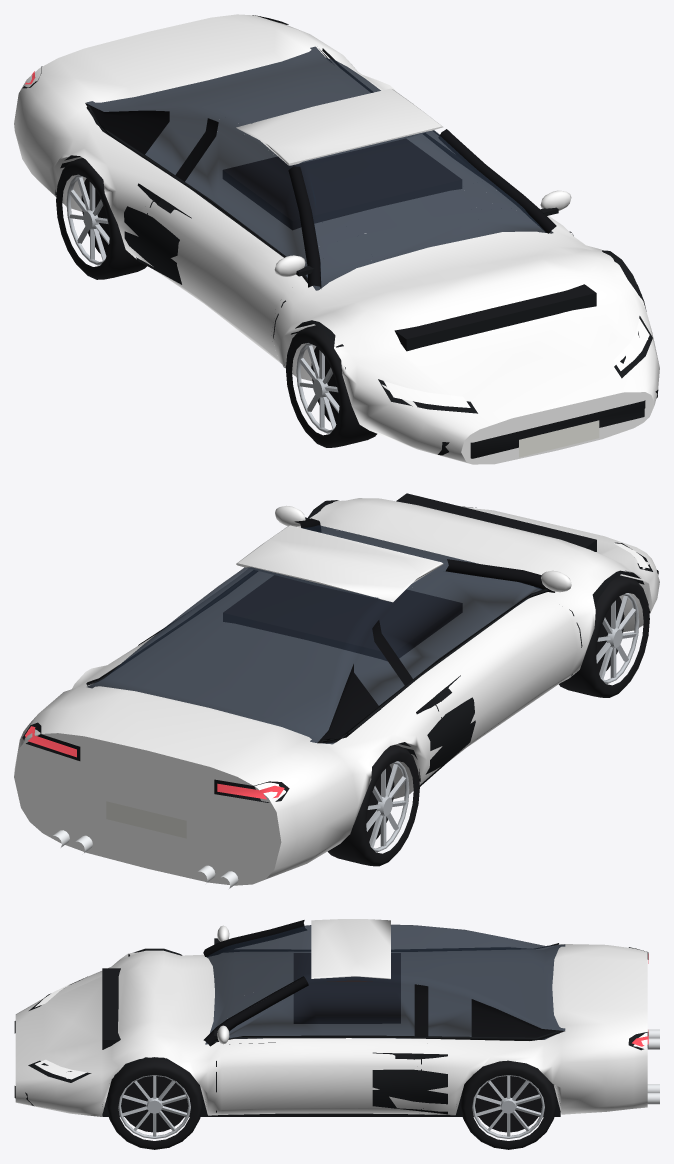
File: apexon_vanta.lod.glb
The picture shows the model from 3 angles, top to bottom: view 1: azimuth 30°, elevation 25°; view 2: azimuth 150°, elevation 25°; view 3: azimuth 270°, elevation 25°; orthographic projection. The views are drawn at different scales.
Visible parts, largest first — view 1: body_paint, body_glass, body_trim, door_glass (×2), door_paint, tire (×2), body_pillar, rim (×2), headlights, door_pillar; view 2: body_paint, body_glass, body_trim, door_paint, door_glass, tire (×2), rim (×2), body_pillar, door_pillar, taillights, body_chrome; view 3: body_paint, body_glass, body_trim, door_paint, door_glass (×2), tire (×2), rim_back (×2), body_pillar, rim (×2), door_pillar, headlights, body_chrome.
Part boxes in pixels (x1,y1,x2,y2): body_paint: [14, 14, 659, 464]; body_glass: [86, 46, 553, 290]; body_trim: [22, 15, 658, 458]; door_glass (×2): [185, 118, 534, 276]; door_paint: [144, 189, 299, 363]; tire (×2): [56, 158, 376, 447]; body_pillar: [85, 49, 556, 288]; rim (×2): [66, 174, 339, 433]; headlights: [383, 319, 649, 407]; door_pillar: [183, 121, 312, 266]; body_paint: [14, 498, 659, 885]; body_glass: [87, 526, 477, 744]; body_trim: [22, 493, 658, 838]; door_paint: [421, 595, 577, 771]; door_glass: [370, 558, 542, 678]; tire (×2): [327, 575, 649, 866]; rim (×2): [366, 593, 639, 852]; body_pillar: [294, 518, 554, 743]; door_pillar: [377, 560, 543, 680]; taillights: [25, 726, 284, 799]; body_chrome: [53, 830, 238, 888]; body_paint: [15, 919, 647, 1116]; body_glass: [205, 924, 565, 1044]; body_trim: [14, 943, 648, 1116]; door_paint: [221, 1042, 427, 1114]; door_glass (×2): [215, 926, 424, 1038]; tire (×2): [106, 1060, 556, 1149]; rim_back (×2): [121, 1076, 542, 1132]; body_pillar: [203, 920, 564, 1046]; rim (×2): [118, 1075, 544, 1138]; door_pillar: [218, 981, 417, 1036]; headlights: [35, 979, 86, 1079]; body_chrome: [647, 1029, 659, 1104].
Size of the model in its own units: 2.02 by 1.19 by 4.7.
